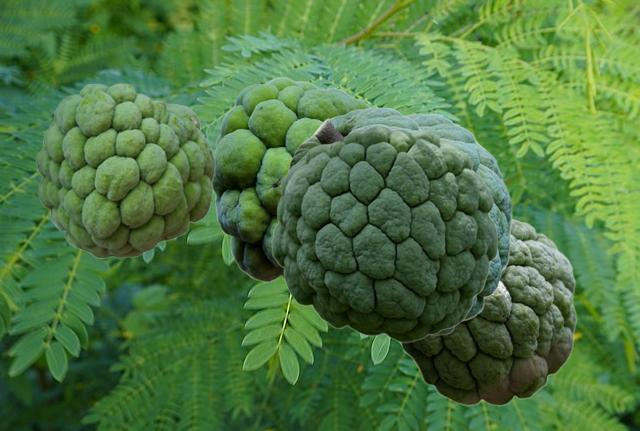atis: (271, 125, 497, 342), (213, 76, 372, 284), (400, 218, 576, 405), (35, 83, 214, 257), (404, 113, 511, 335), (288, 107, 421, 169)
